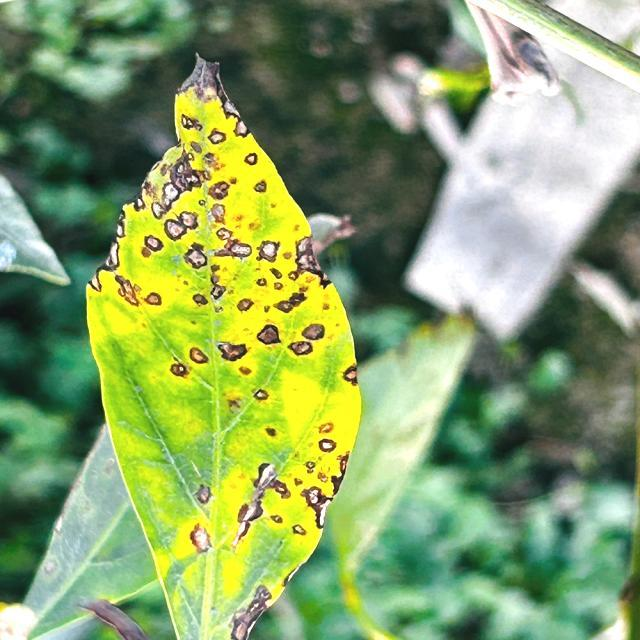Bercak Daun Serkospora: (83, 53, 363, 640)
